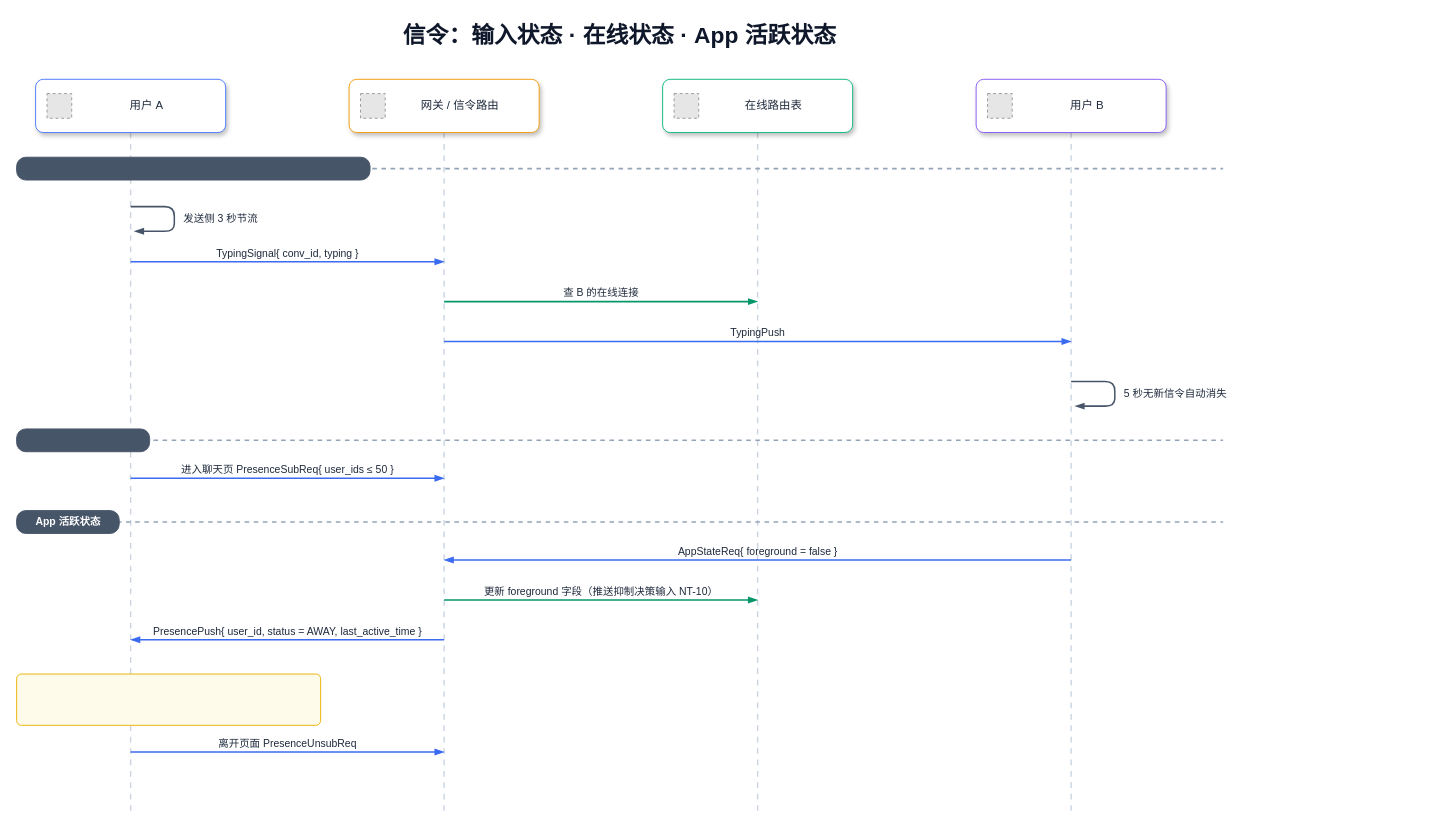
Some shapes in this 1453 by 828 pixel diagram are drawn without their labels. Grey dashed boxes stand in for pictures. The shapes that lost their labels are listed below. From the top down, each one's centre as x and y in pixels, then its label:
At point (193, 168): "输入状态 · 仅单聊 · 不落库 / 不进 Timeline / 不 ACK".
At point (83, 440): "在线状态 · 订阅制".
At point (168, 699): "status ∈ ONLINE / AWAY / OFFLINE 离线不透出精确时间".
